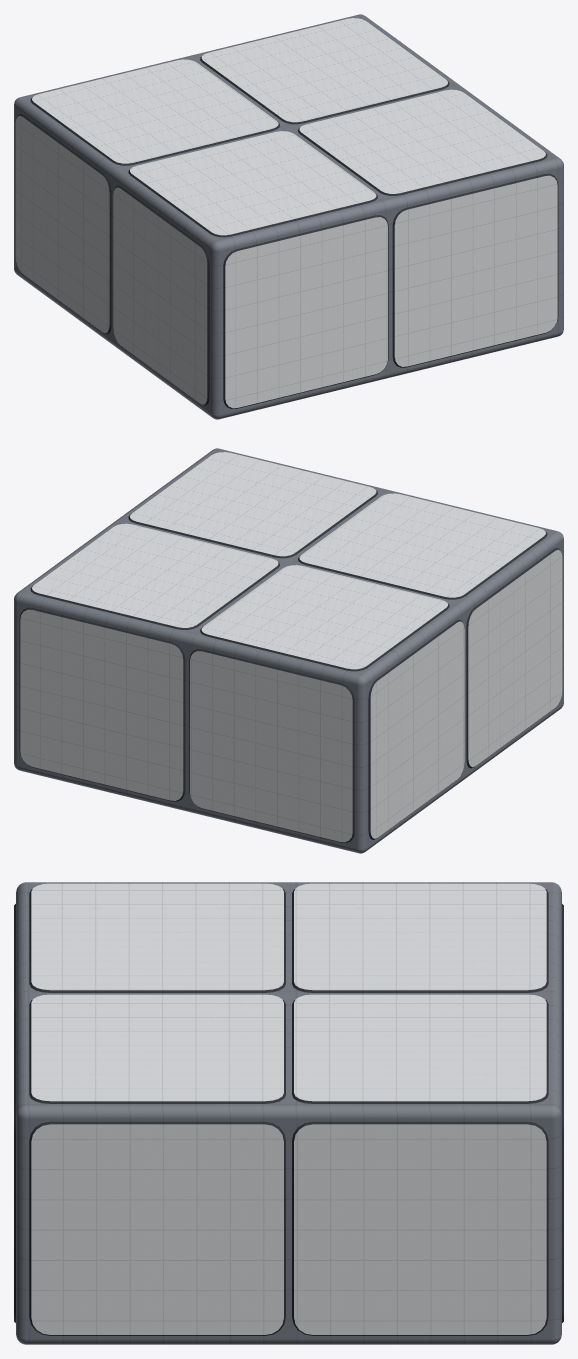
Rendered from R4B_Slab2x2.glb.
3 views of the same model, one above another, from view 1: azimuth 30°, elevation 25°; view 2: azimuth 150°, elevation 25°; view 3: azimuth 270°, elevation 25° (orthographic). The views are drawn at different scales.
Parts seen in each view (by area): view 1: R4B_Slab2x2; view 2: R4B_Slab2x2; view 3: R4B_Slab2x2.
Boxes of the visible parts, left/top/right/bottom form: R4B_Slab2x2: left=14, top=14, right=563, bottom=419; R4B_Slab2x2: left=14, top=448, right=563, bottom=853; R4B_Slab2x2: left=14, top=882, right=563, bottom=1344.
Size of the model in its own units: 1.07 by 0.52 by 1.07.
3 materials, 3 textured.
